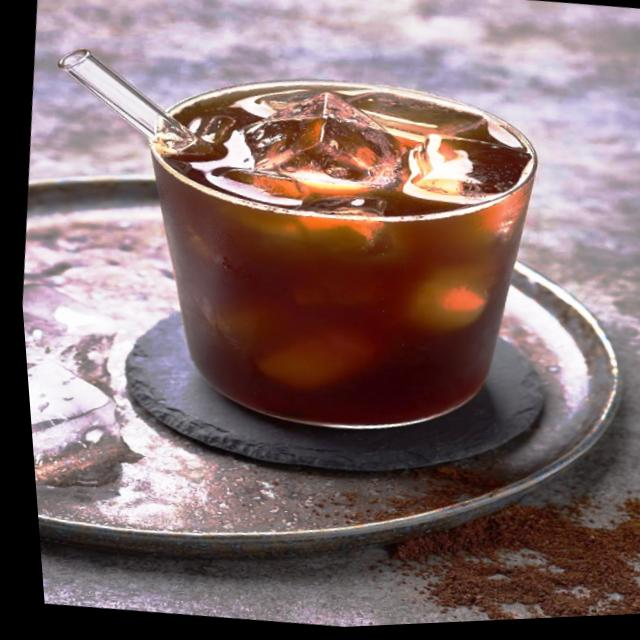drink: (147, 75, 532, 430)
